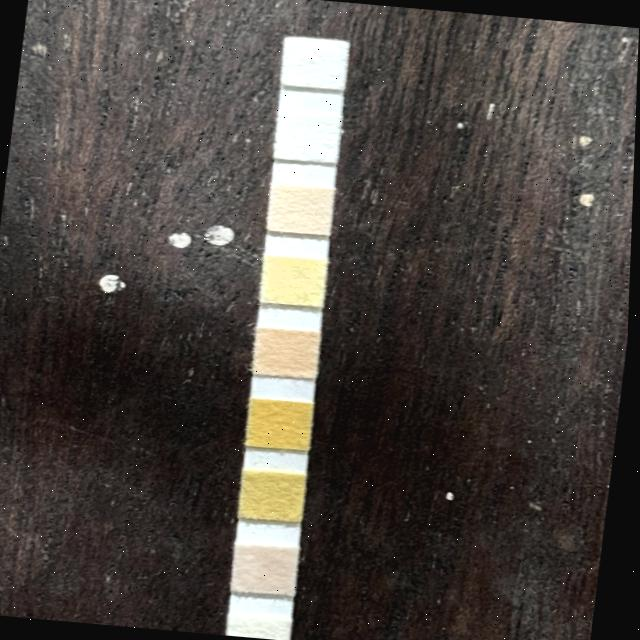Bilirubin: (231, 612, 293, 640)
Blood: (249, 397, 314, 448)
Ketone: (236, 542, 303, 592)
Leukocytes: (280, 34, 349, 88)
Nitrite: (274, 110, 340, 162)
Protein: (263, 254, 329, 304)
SpGravity: (242, 470, 308, 519)
Urobilinogen: (267, 184, 334, 232)
pH: (255, 326, 320, 376)
